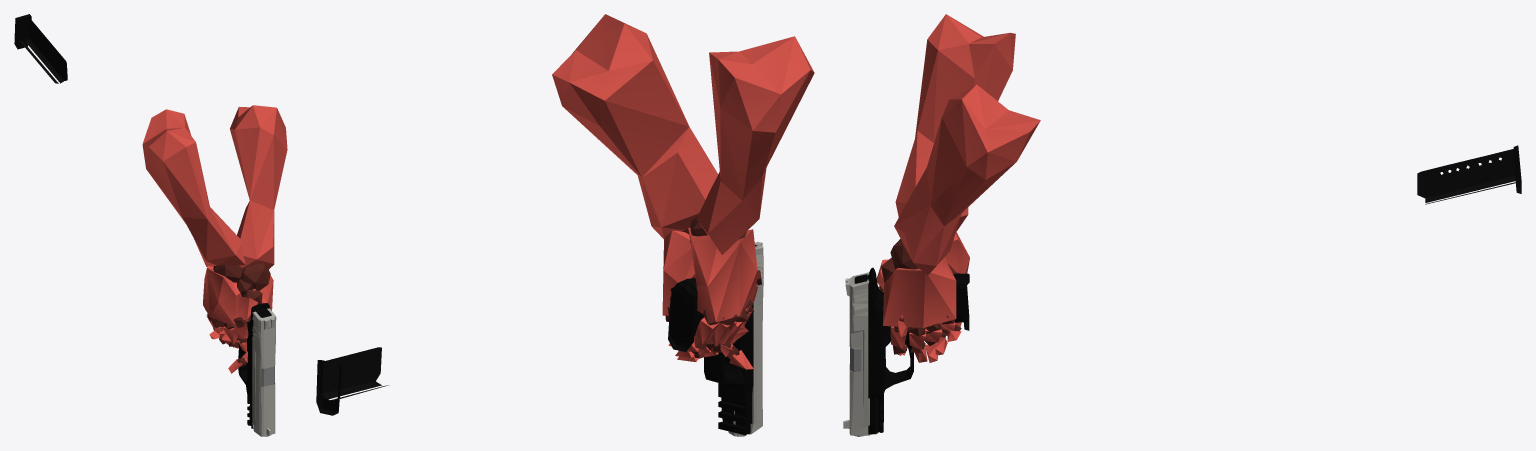
File: M&P9reloadNormal1lowP_000154.obj
The picture shows the model from 3 angles, left to right: view 1: azimuth 30°, elevation 25°; view 2: azimuth 150°, elevation 25°; view 3: azimuth 270°, elevation 25°; orthographic projection. The views are drawn at different scales.
Parts seen in each view (by area): view 1: Beta_Surface.001_Beta_Surface.002, slide_平面.002, Beta_Joints.001_Beta_Joints.002, magazine_平面.003, triger_平面.001; view 2: Beta_Surface.001_Beta_Surface.002, triger_平面.001, magazine_平面.003, slide_平面.002, Beta_Joints.001_Beta_Joints.002; view 3: Beta_Surface.001_Beta_Surface.002, triger_平面.001, magazine_平面.003, slide_平面.002, Beta_Joints.001_Beta_Joints.002.
Part boxes in pixels (x1,y1,x2,y2): Beta_Surface.001_Beta_Surface.002: [142, 105, 287, 373]; slide_平面.002: [252, 308, 276, 436]; Beta_Joints.001_Beta_Joints.002: [204, 263, 270, 367]; magazine_平面.003: [14, 14, 67, 83]; triger_平面.001: [237, 303, 274, 436]; Beta_Surface.001_Beta_Surface.002: [552, 14, 814, 369]; triger_平面.001: [670, 277, 753, 436]; magazine_平面.003: [316, 347, 389, 415]; slide_平面.002: [728, 241, 763, 436]; Beta_Joints.001_Beta_Joints.002: [665, 216, 761, 361]; Beta_Surface.001_Beta_Surface.002: [876, 14, 1040, 362]; triger_平面.001: [850, 267, 969, 436]; magazine_平面.003: [1417, 145, 1521, 204]; slide_平面.002: [843, 272, 878, 435]; Beta_Joints.001_Beta_Joints.002: [879, 239, 961, 354].
Size of the model in its own units: 42.48 by 80.09 by 130.
